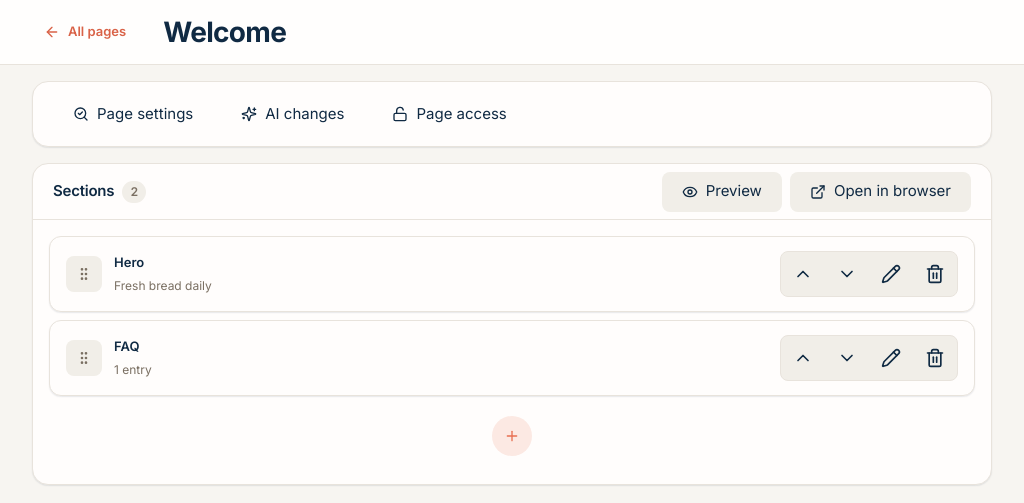
Test: reordering and deleting › deleting takes two clicks; one alone changes nothing
Check: the text "FAQ" is shown, box [114,337,140,357]
The first click only arms the confirmation.
Click the button named "Delete FAQ".
click(935, 358)  # box [915,338,955,378]
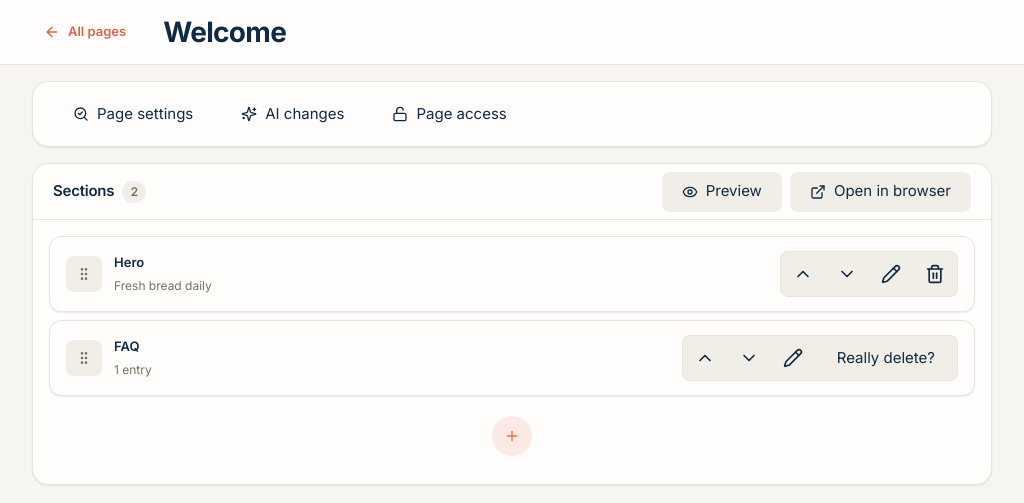
Click the button "Really delete?".
click(886, 358)  # box [817,338,955,378]
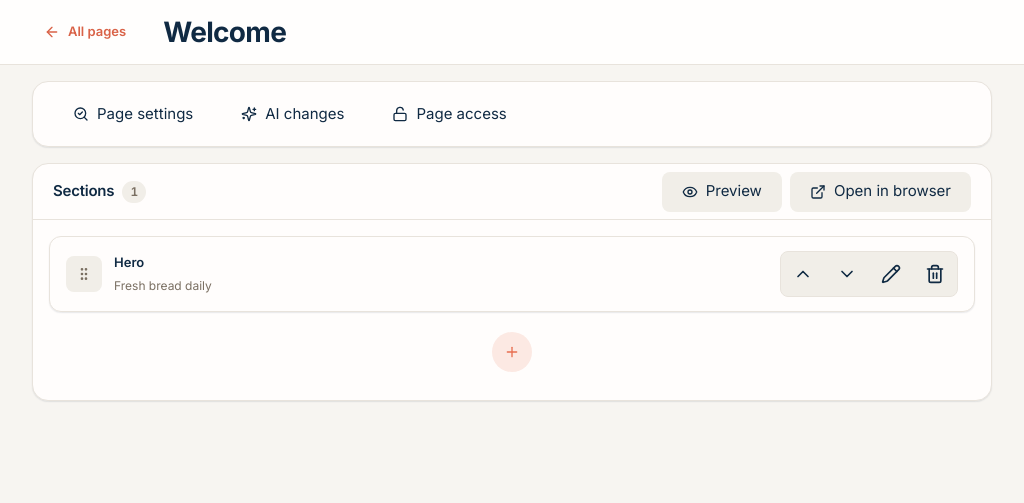
Check: the text "FAQ" is gone
